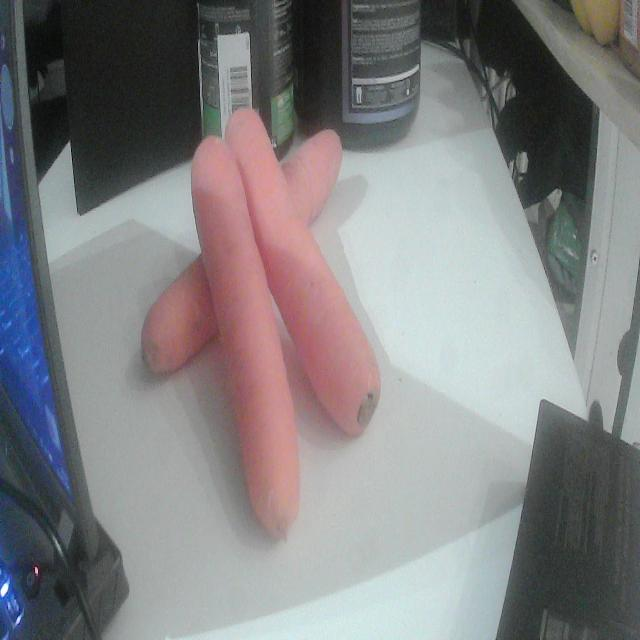Carrot: (226, 110, 380, 436), (192, 140, 300, 537), (142, 253, 216, 376), (280, 125, 342, 226)
